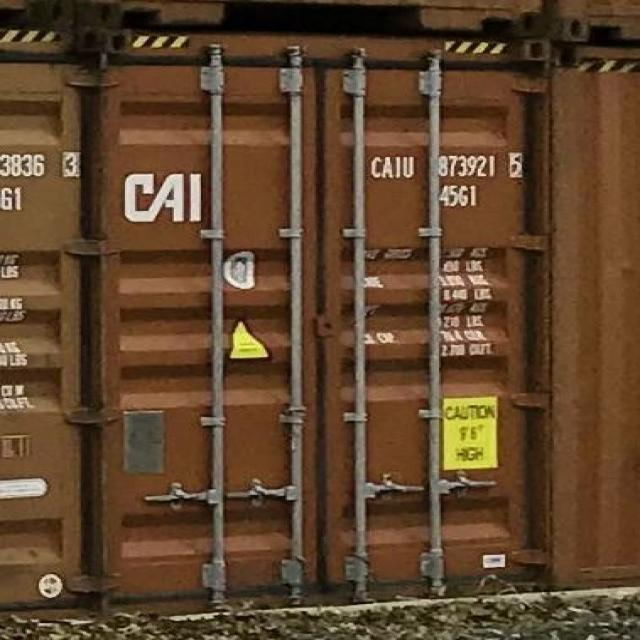ISO: (441, 183, 486, 204)
container_number: (372, 150, 525, 181)
